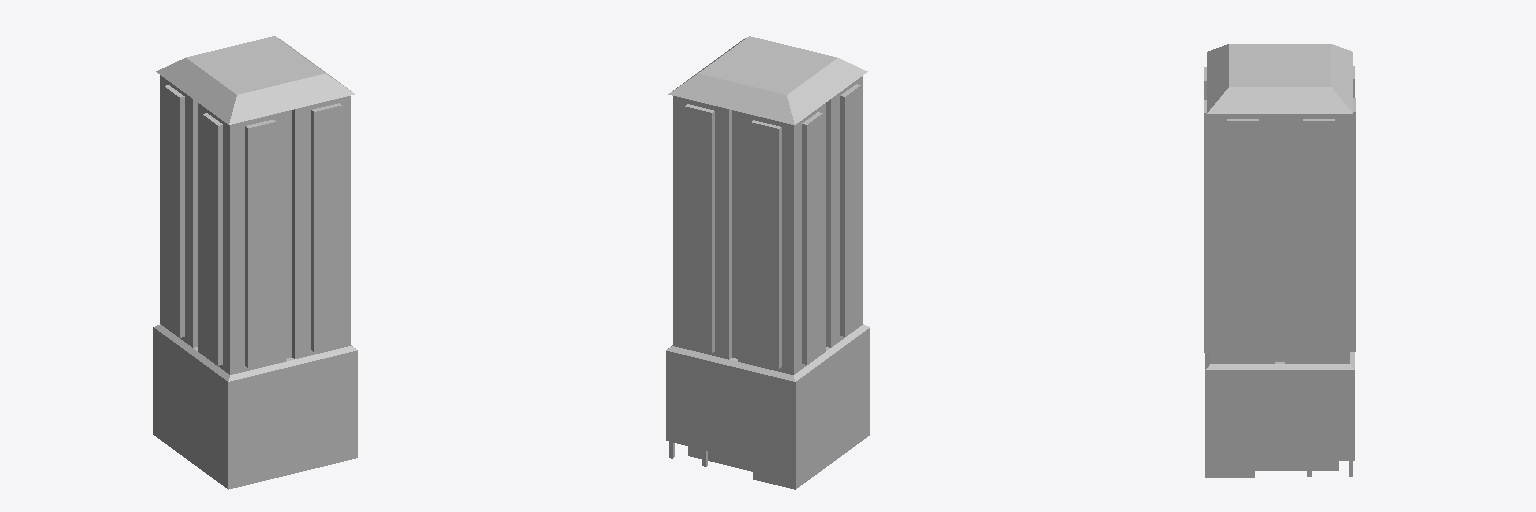
The model's file is building4.obj.
3 views of the same model, side by side, from view 1: azimuth 30°, elevation 25°; view 2: azimuth 150°, elevation 25°; view 3: azimuth 270°, elevation 25° (orthographic).
Parts seen in each view (by area): view 1: objobjbuilding1; view 2: objobjbuilding1; view 3: objobjbuilding1.
Part boxes in pixels (x1,y1,x2,y2): objobjbuilding1: (153, 36, 357, 489); objobjbuilding1: (666, 36, 869, 489); objobjbuilding1: (1204, 44, 1355, 477).
Bounding box in the file's own units: 0.8038 × 2.23 × 0.8088.